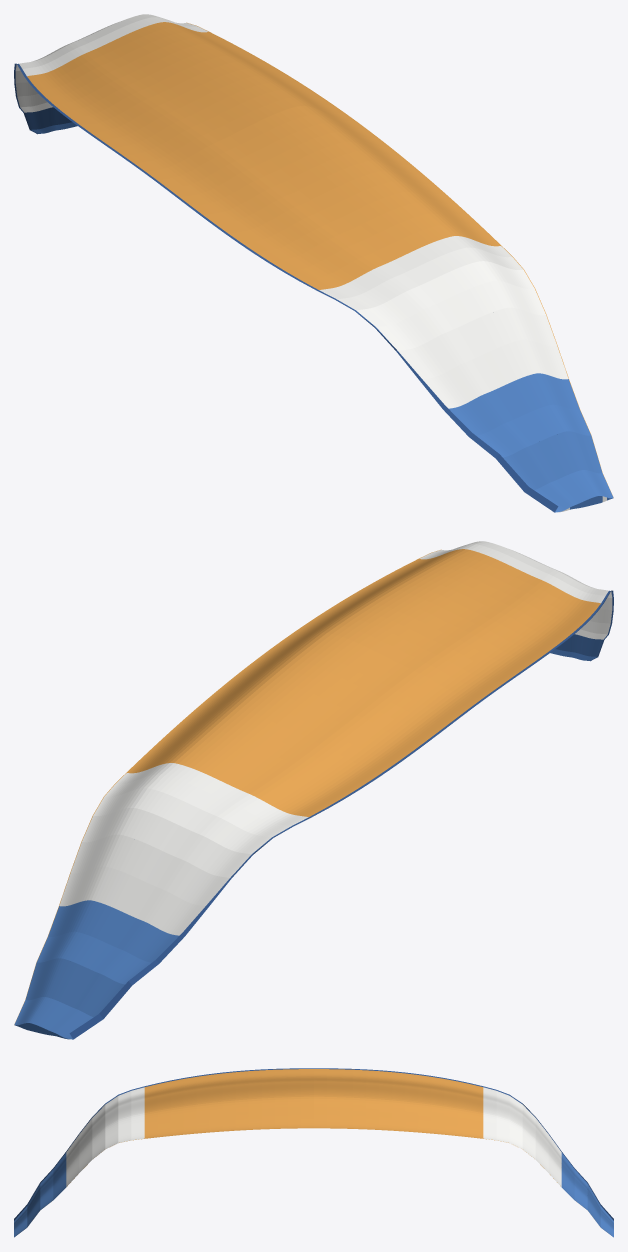
The model's file is MacParaTestWing.fbx.
3 views of the same model, one above another, from view 1: azimuth 30°, elevation 25°; view 2: azimuth 150°, elevation 25°; view 3: azimuth 270°, elevation 25° (orthographic). The views are drawn at different scales.
Parts seen in each view (by area): view 1: Wing_Inflated; view 2: Wing_Inflated; view 3: Wing_Inflated.
Part boxes in pixels (x1,y1,x2,y2): Wing_Inflated: (14,14,613,512); Wing_Inflated: (14,541,613,1039); Wing_Inflated: (14,1068,613,1237).
Size of the model in its own units: 2.71 by 11.45 by 2.67.
